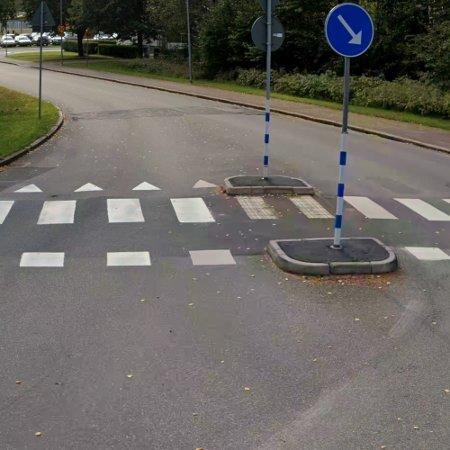crosswalks: (0, 194, 450, 226)
